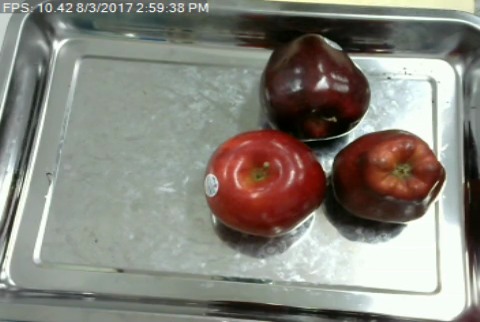Apple: (201, 125, 327, 240), (257, 27, 372, 144), (330, 126, 449, 227)
